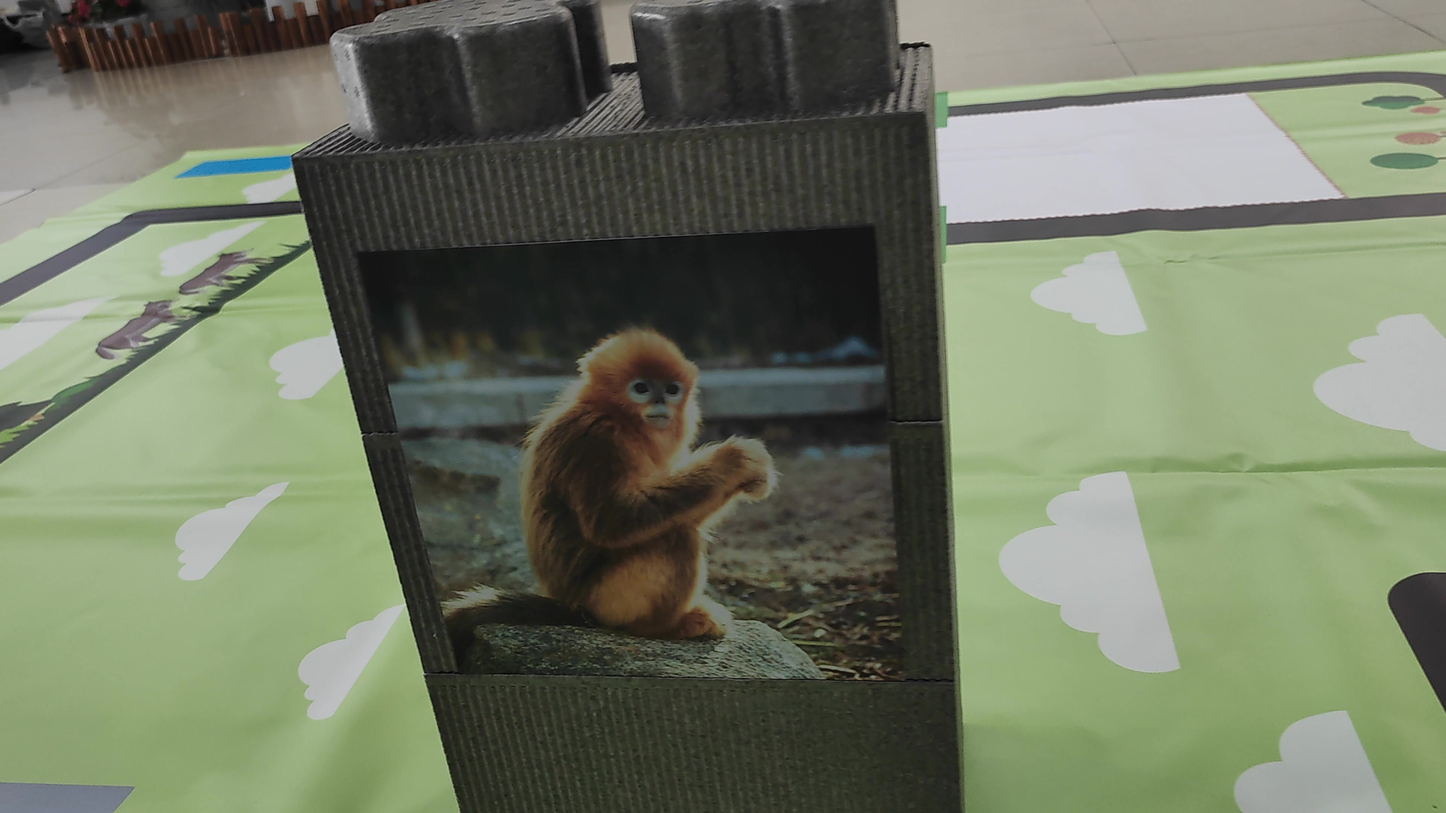monkey: (473, 291, 794, 661)
